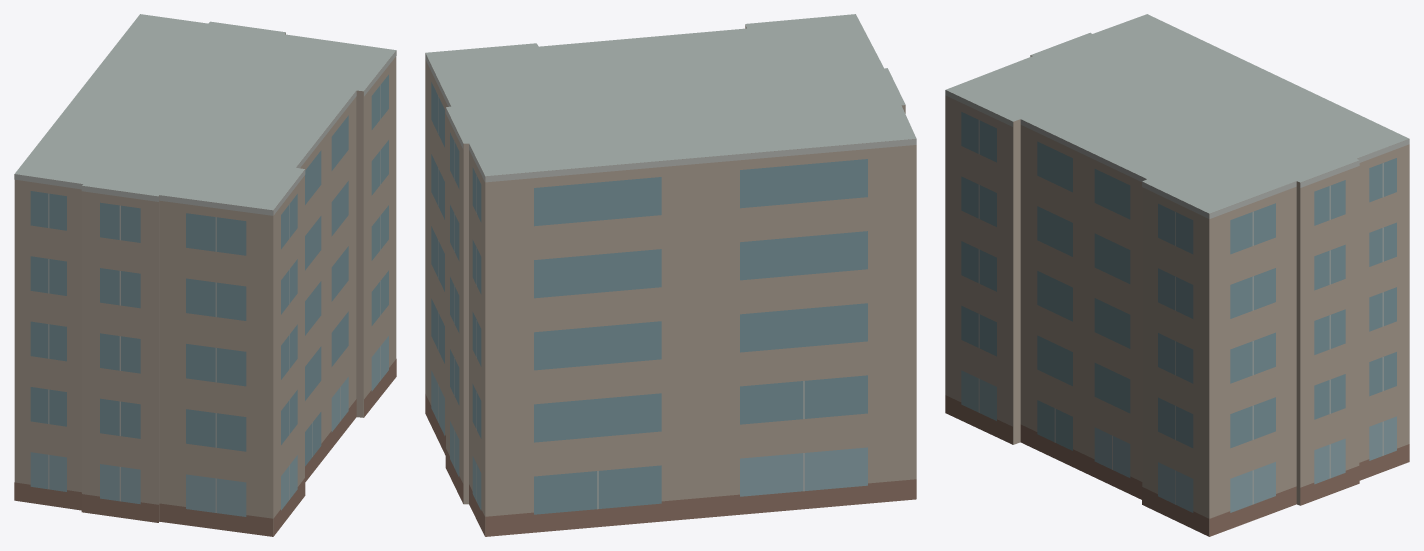
The model's file is survey-upis-32885080.glb.
3 views of the same model, side by side, from view 1: azimuth 30°, elevation 25°; view 2: azimuth 150°, elevation 25°; view 3: azimuth 270°, elevation 25° (orthographic). The views are drawn at different scales.
Visible parts, largest first — view 1: survey-upis-32885080.tmp; view 2: survey-upis-32885080.tmp; view 3: survey-upis-32885080.tmp.
Boxes of the visible parts, x1,y1,x2,y2 form: survey-upis-32885080.tmp: (14,14,396,536); survey-upis-32885080.tmp: (425,14,916,536); survey-upis-32885080.tmp: (945,14,1409,536).
Bounding box in the file's own units: 18.95 × 14.3 × 18.62.
